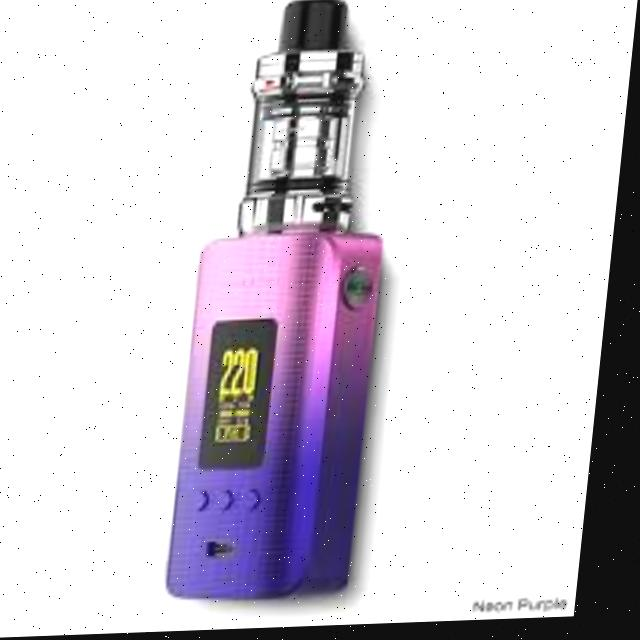vape: (176, 0, 413, 606)
